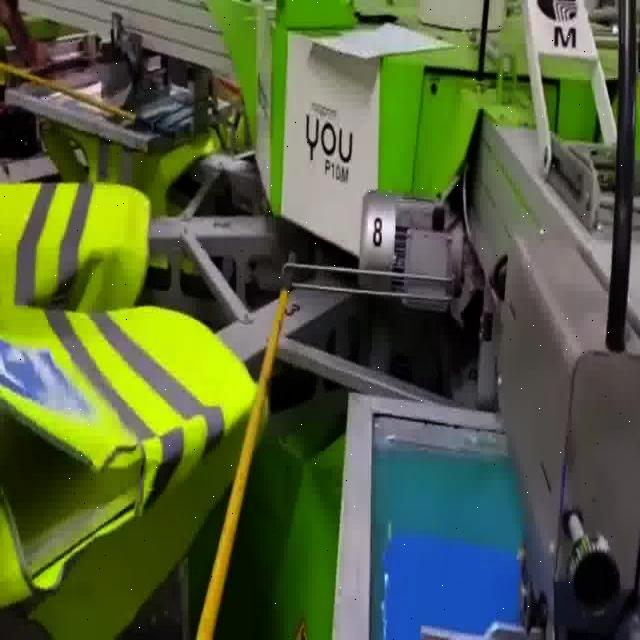Vest: (0, 302, 270, 640), (2, 181, 155, 303)
